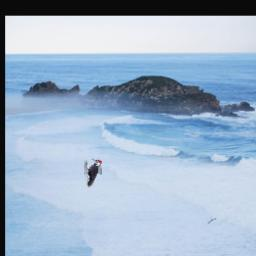Woodpecker: (85, 158, 103, 187)
